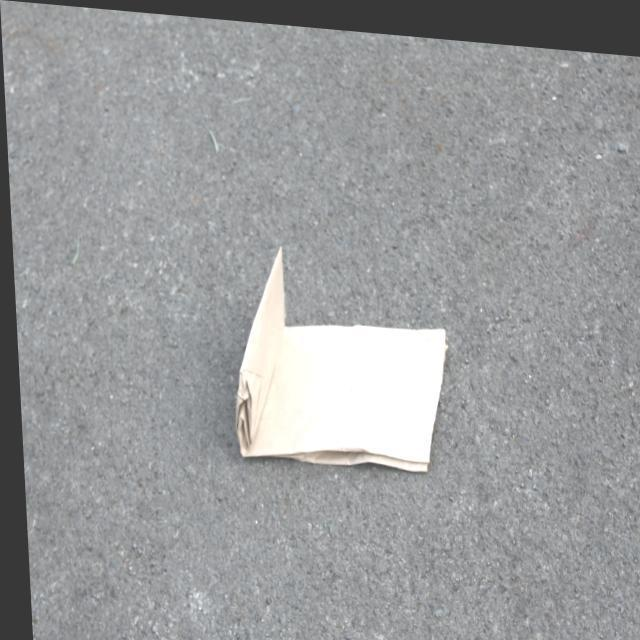Paper_Bag: (225, 236, 448, 467)
